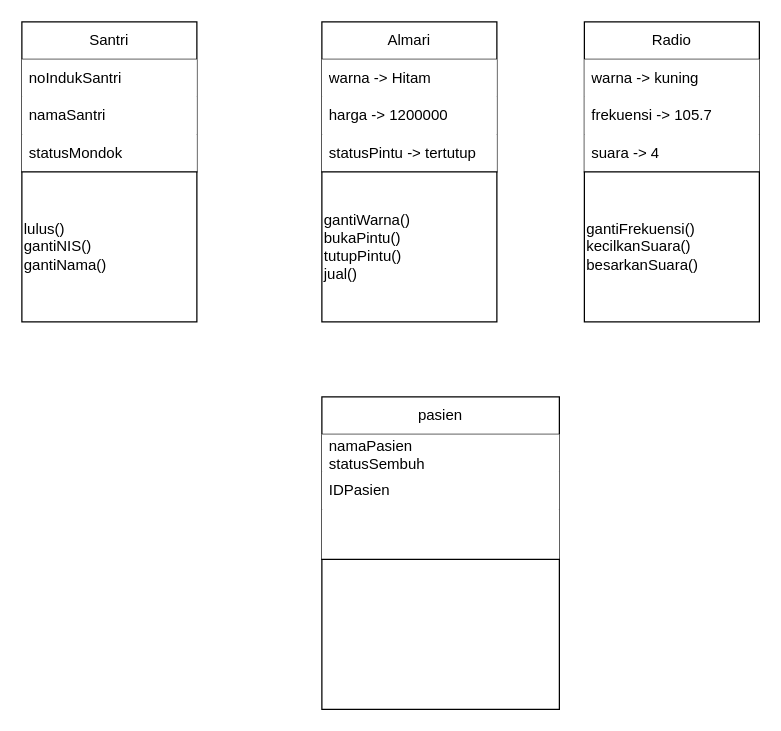
The diagram is 781 pixels wide and 731 high, and some of its shapes have lost their labels. The shapes that lost their labels are listed below. From the top down, each one's centre as x and y in pixels, then its label:
At (x=440, y=534): "levelPelayanan".
At (x=440, y=633): "gantiNama() tetapkanId() sembuhkan() gantiLevelPelayanan()".
